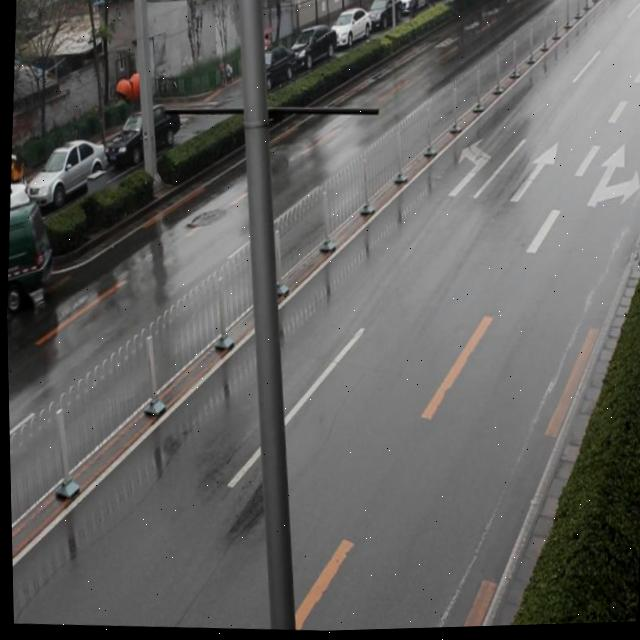truck: (3, 199, 60, 333)
